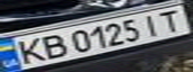0: (66, 26, 90, 53)
1: (87, 22, 109, 50)
2: (103, 19, 127, 47)
5: (121, 16, 145, 43)
B: (33, 32, 72, 61)
I: (136, 11, 166, 37)
K: (6, 35, 51, 65)
T: (151, 7, 190, 34)
